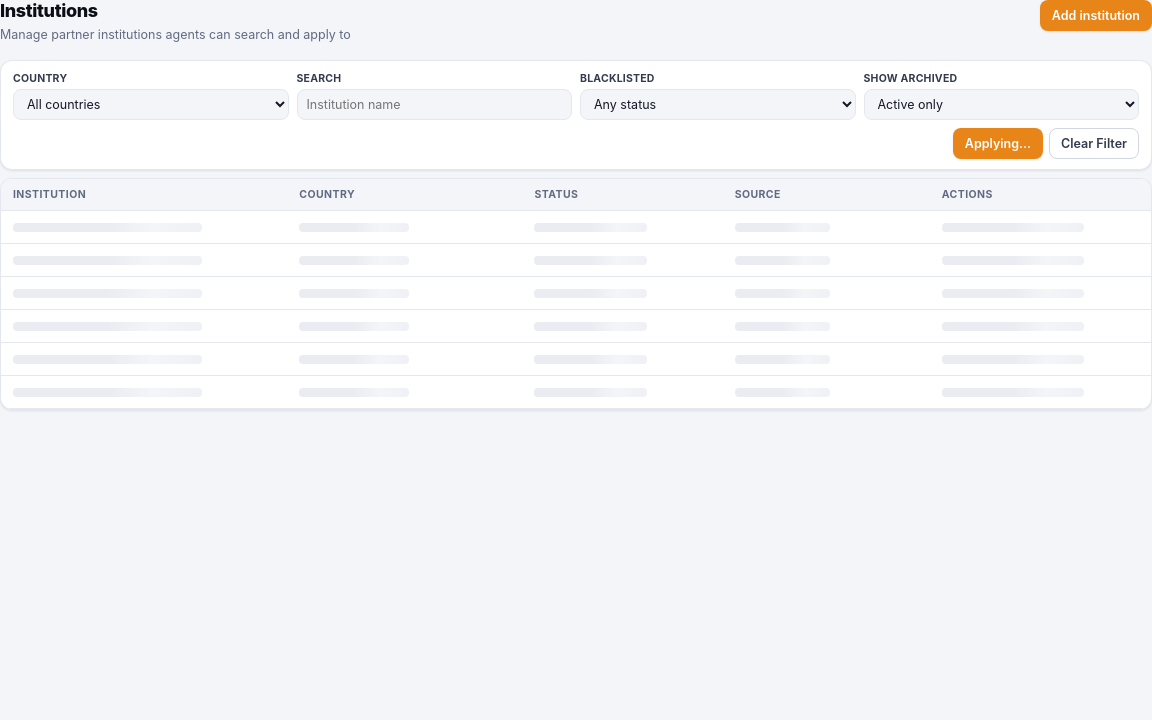
Test: AdminInstitutions — setting up a new institution › offers all three, collapsed
What coordinates should you click on to do the following:
click the button "Add institution"
I would click on:
 (1096, 16)
Its box is top-left (1040, 0), bottom-right (1151, 31).
(page scrolled)
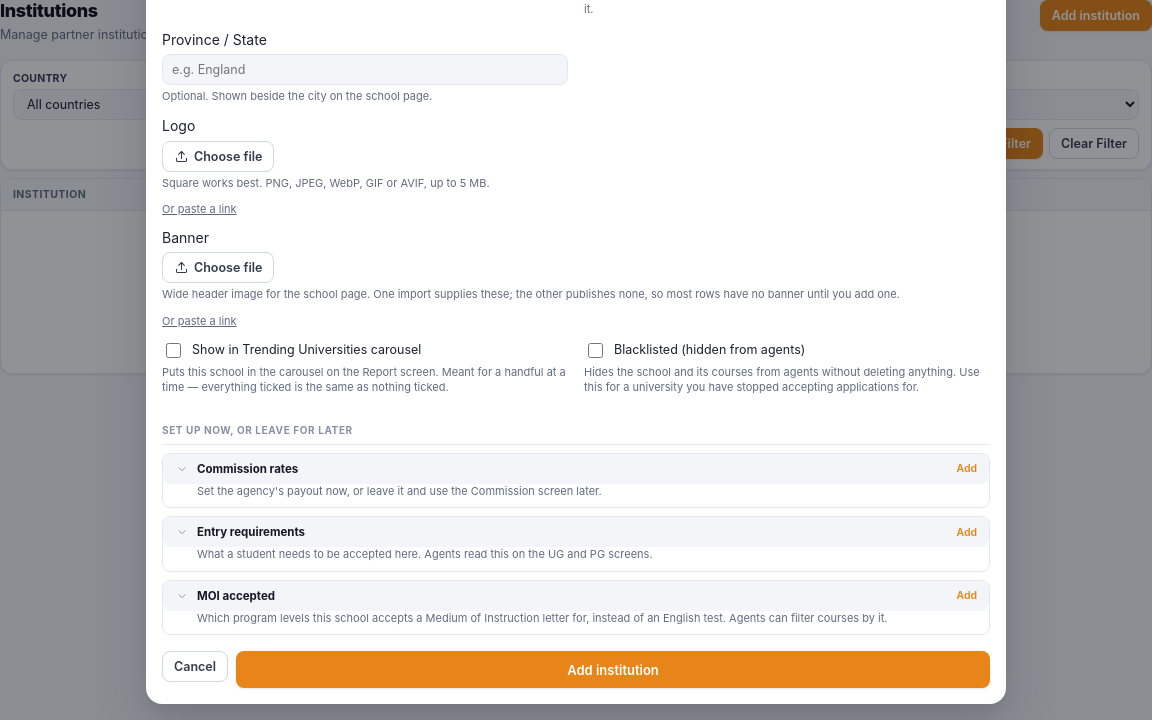
Expected: the dialog is shown
